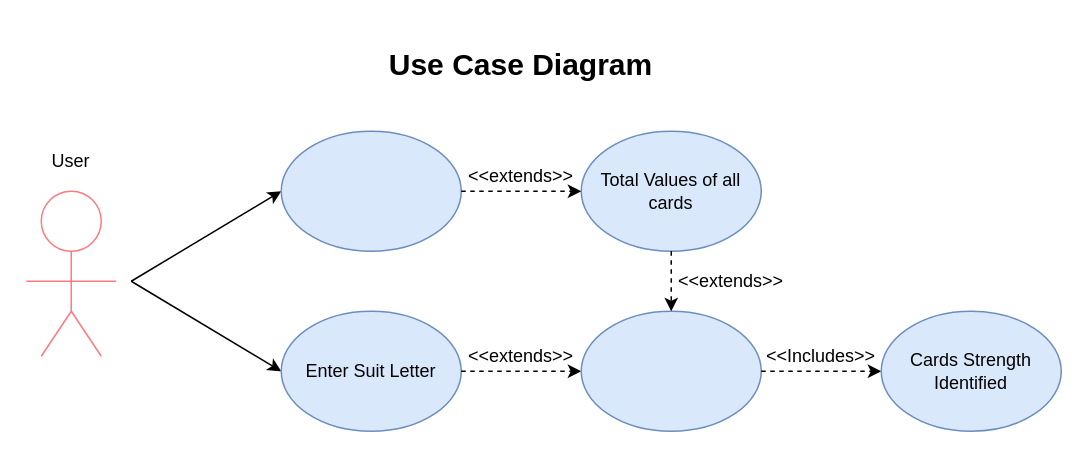
This 1088x458 diagram has some shape labels left out. Here are the shapes that lost their labels. From the top down, the centre of each, then its label:
At point (370, 190): "Enter Value Letters".
At point (670, 370): "Cards Ranking Analysis".
